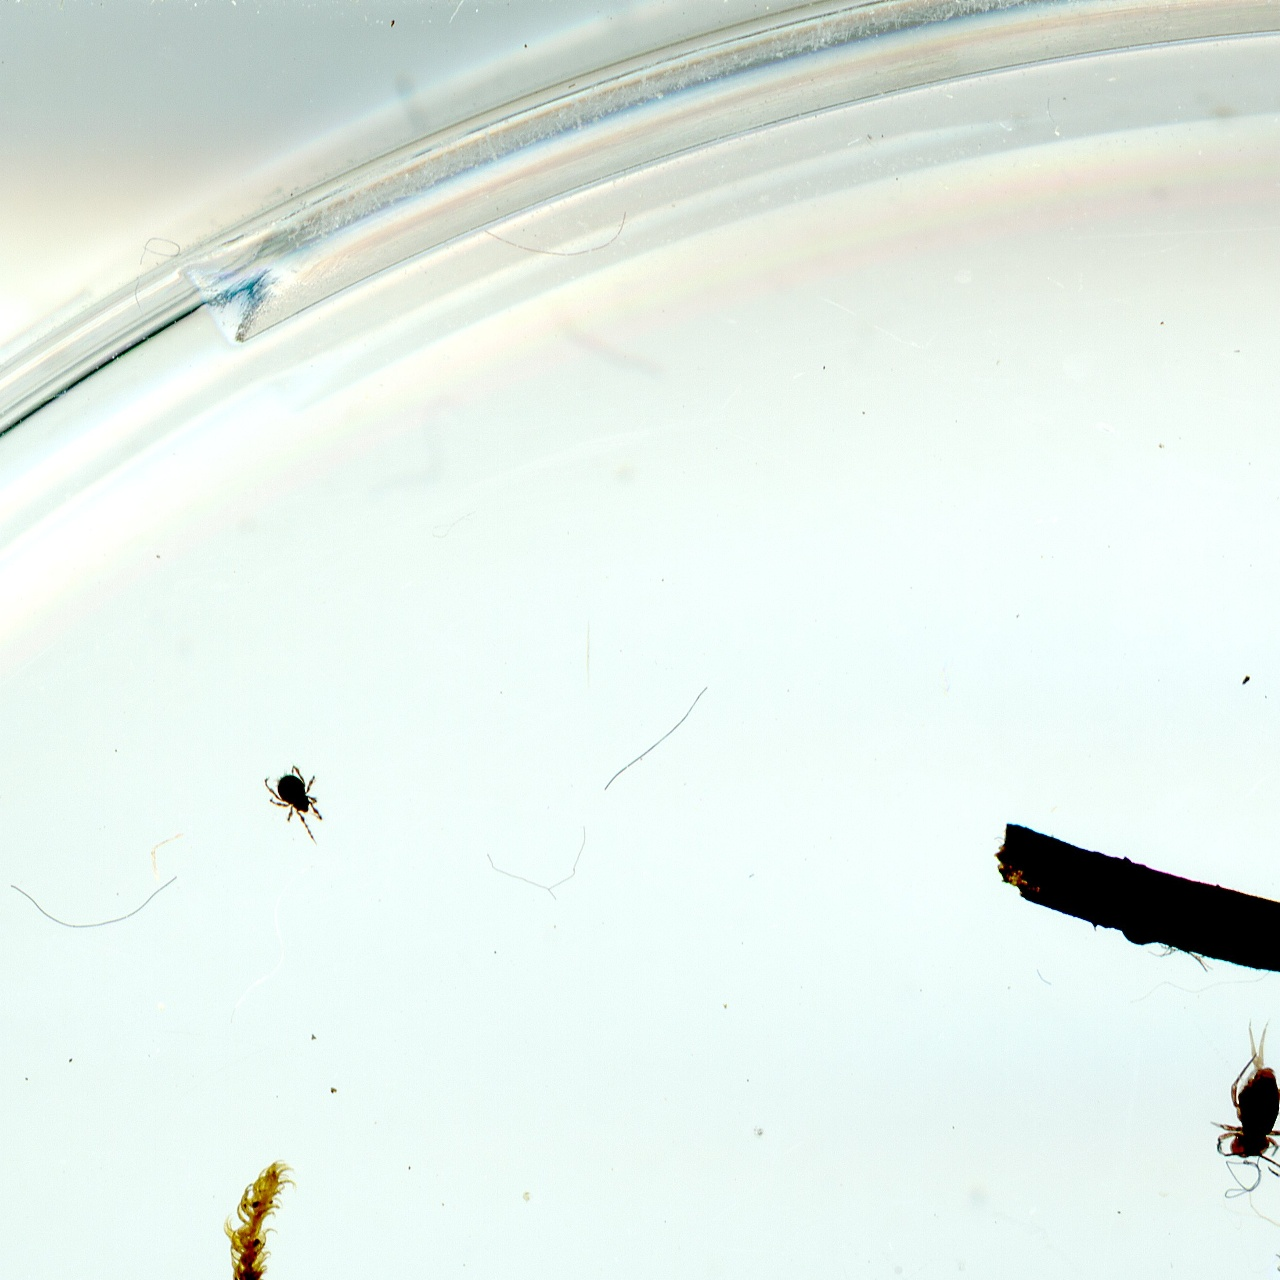arthropod: (253, 750, 349, 860), (1213, 1017, 1280, 1175)
